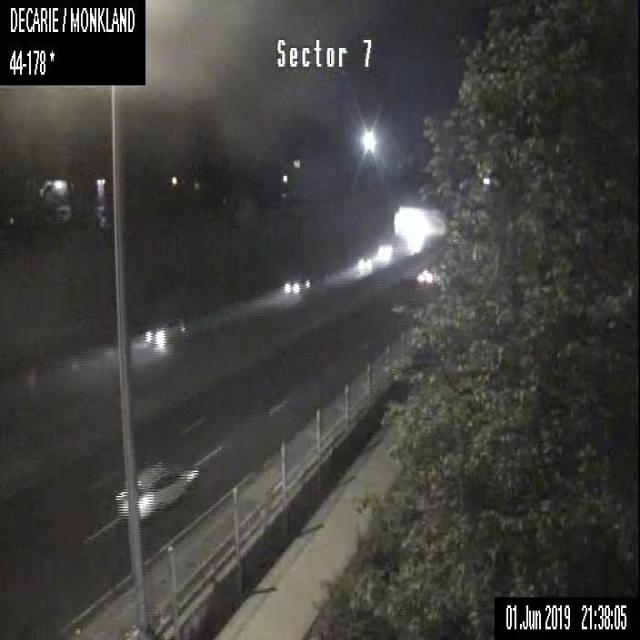vehicle: (116, 463, 184, 520), (144, 314, 187, 351), (281, 275, 310, 296)
